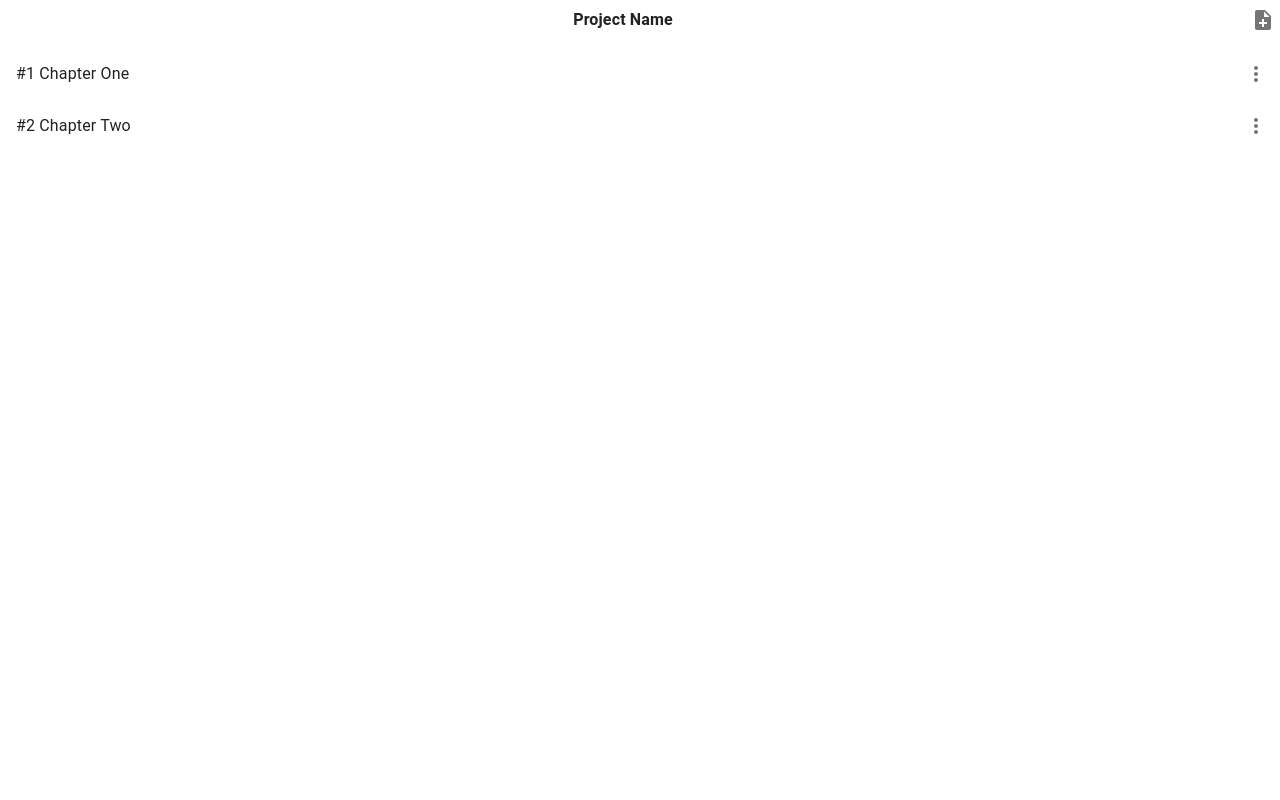
should create a chapter (last chapter)
The image size is (1280, 800).
Expected: the heading "Project Name" is shown, left=573, top=6, right=673, bottom=34
Click the button named "new chapter" at point(1263, 20), box left=1246, top=0, right=1279, bottom=40
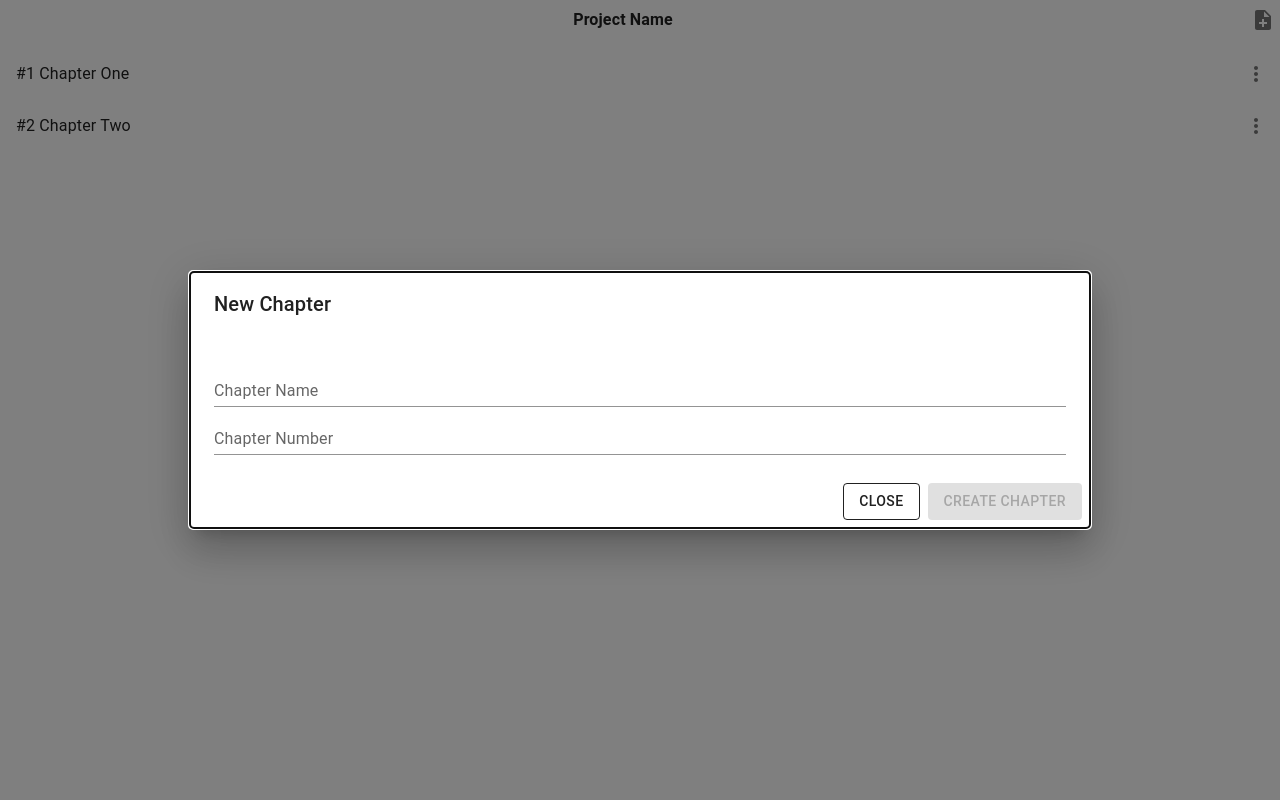
Click the field labelled "Chapter Name" at point(640, 391), box left=214, top=375, right=1066, bottom=407
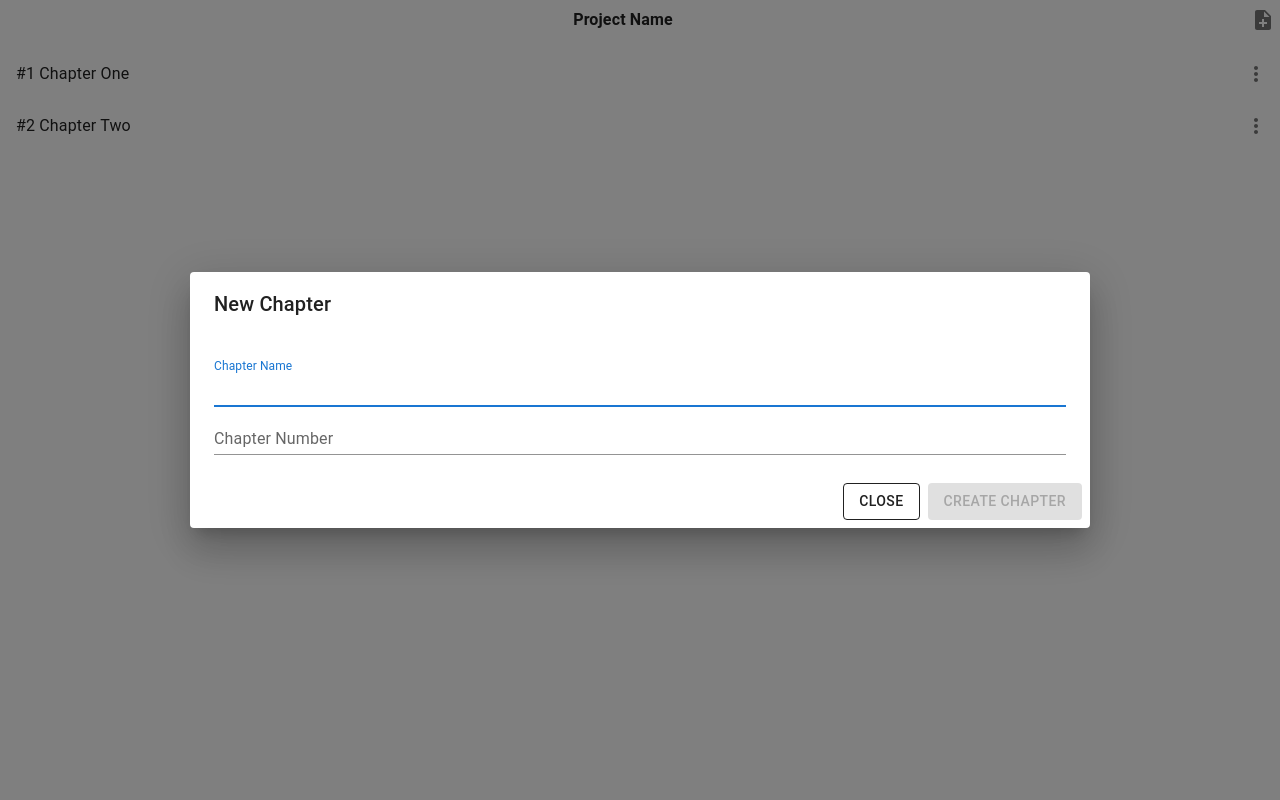
Type keys "Chapter"
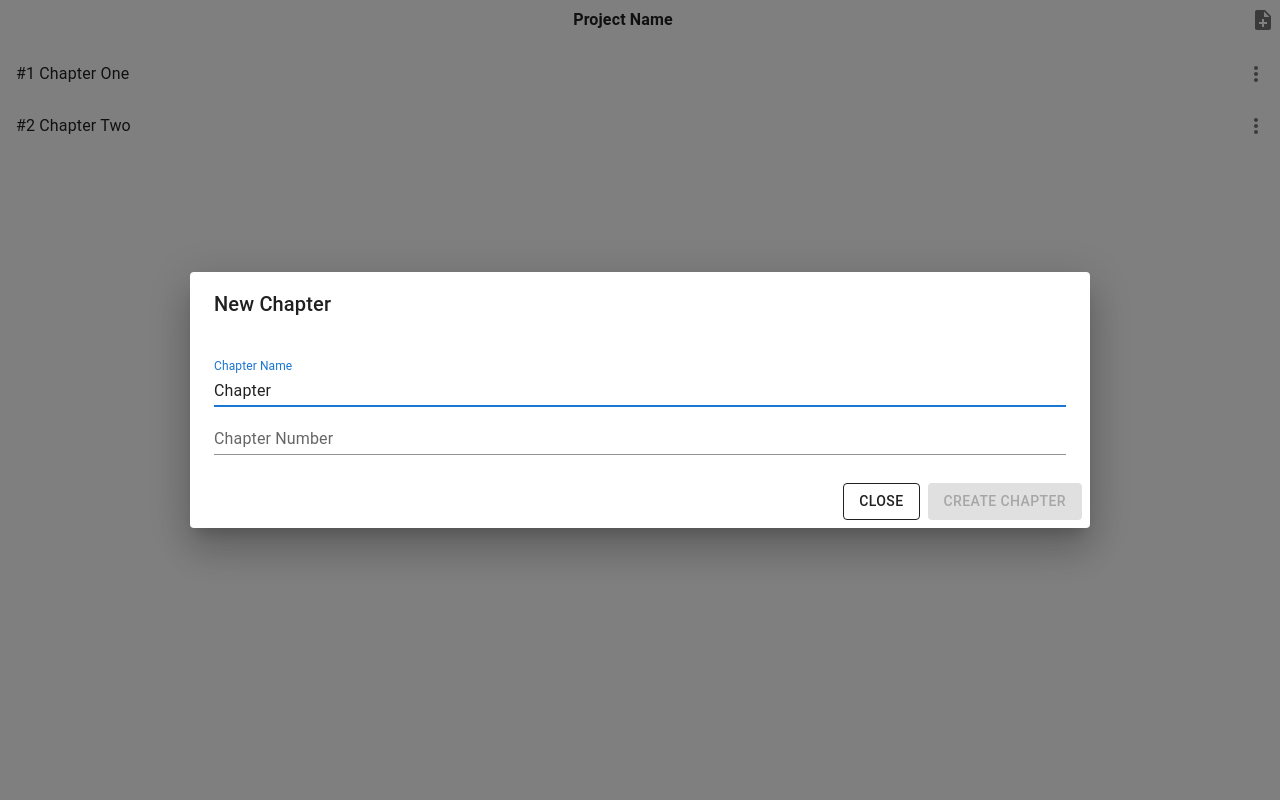
Click the field labelled "Chapter Number" at point(640, 439), box left=214, top=423, right=1066, bottom=455
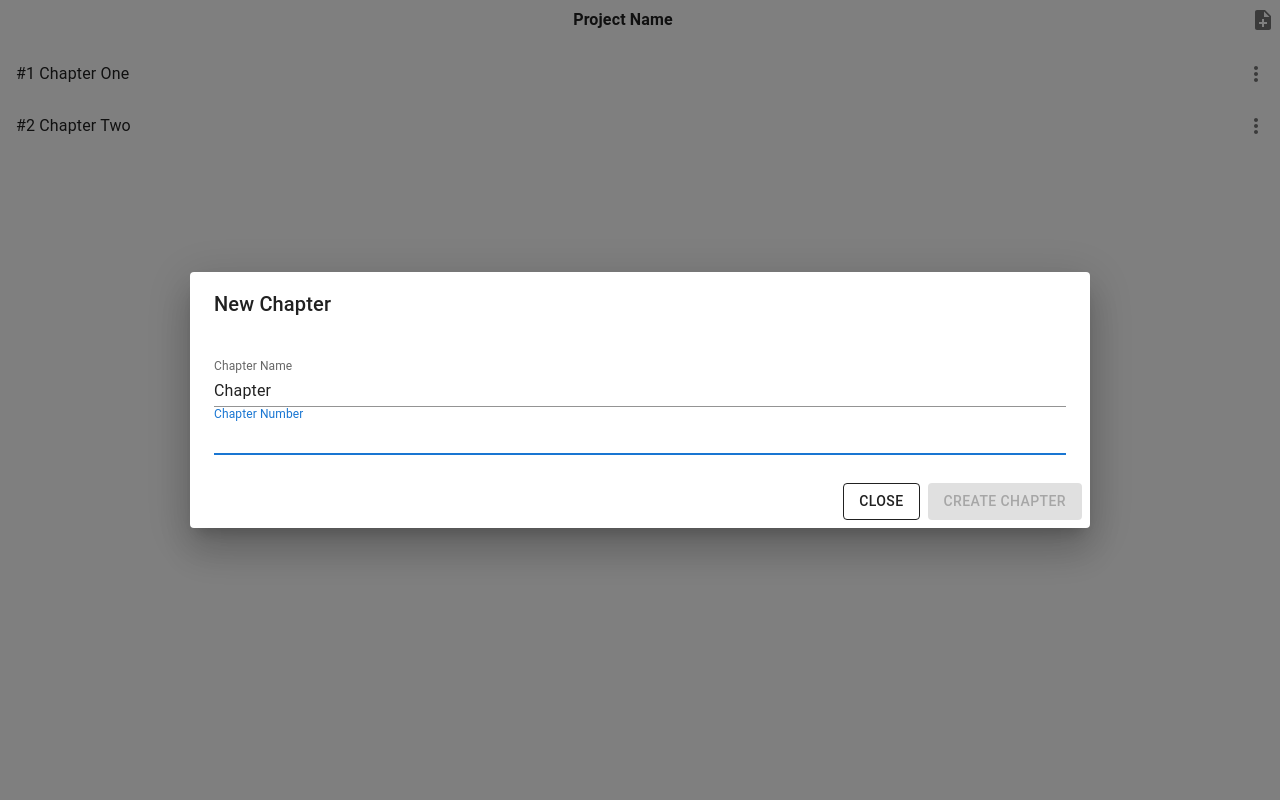
Type keys "3"
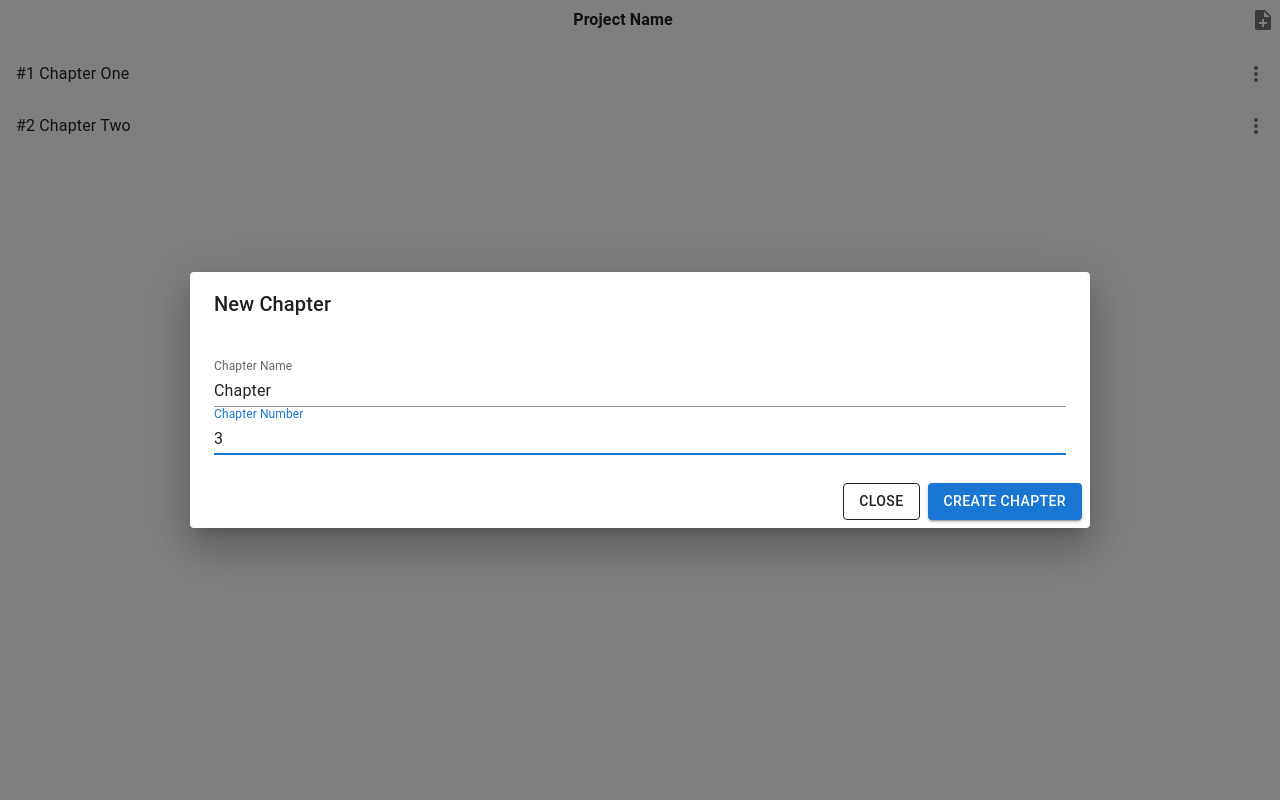
Result: the button "Create Chapter" is enabled
Click the button "Create Chapter" at point(1005, 502), box left=928, top=483, right=1082, bottom=520
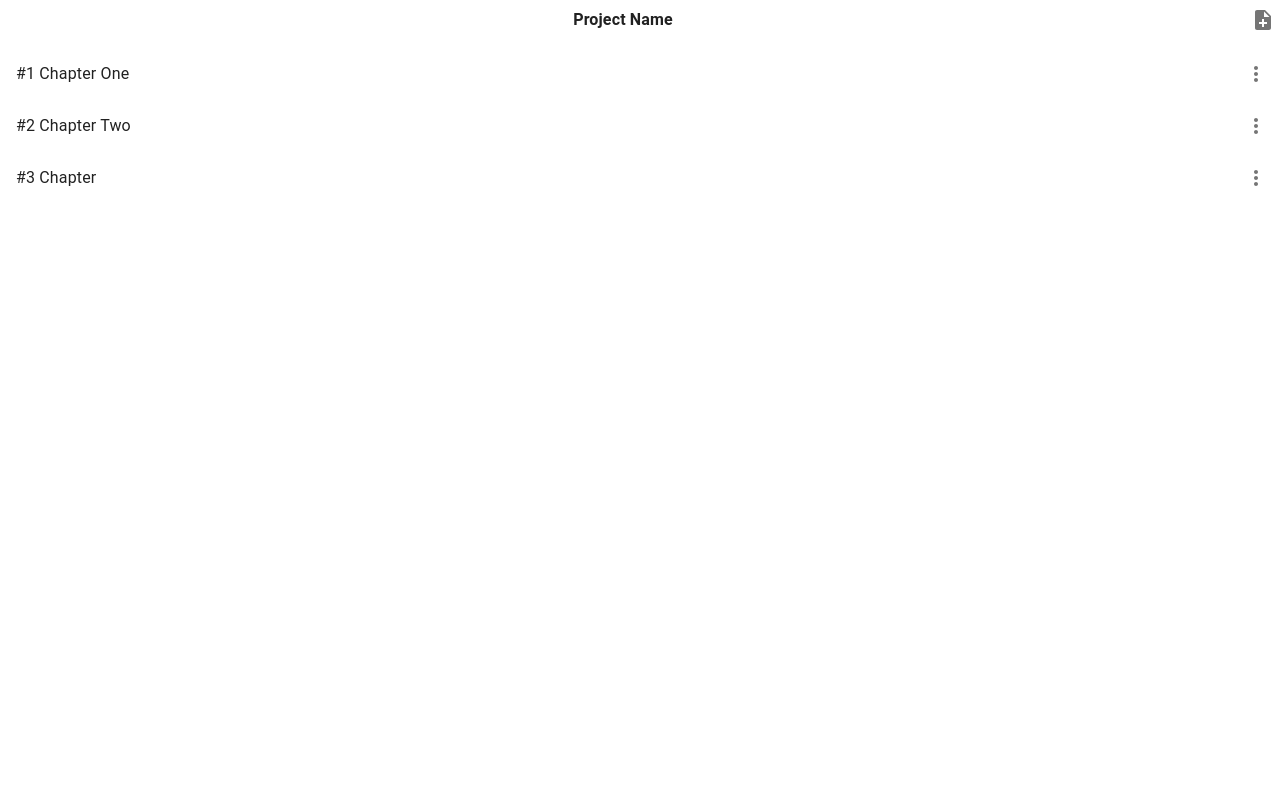
Result: the dialog is gone
Result: the list items read "#1 Chapter One", "#2 Chapter Two", "#3 Chapter", in this order at left=0, top=48, right=1279, bottom=100; left=0, top=100, right=1279, bottom=152; left=0, top=152, right=1279, bottom=204
